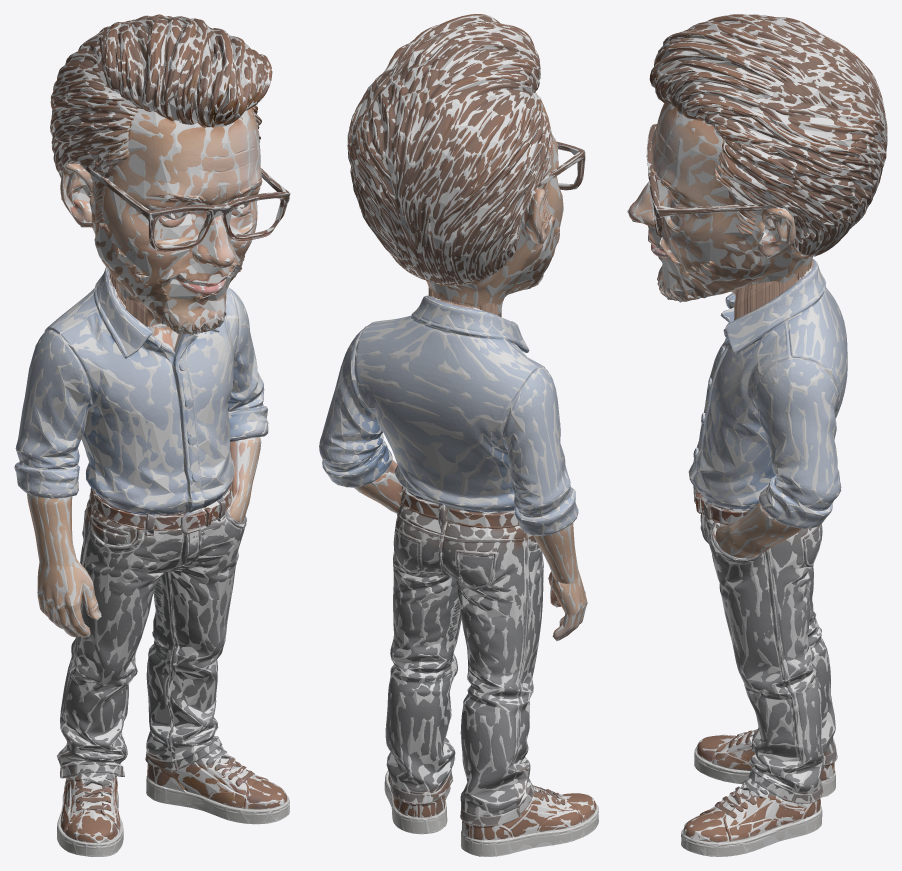
Rendered from figure.glb.
The picture shows the model from 3 angles, left to right: view 1: azimuth 30°, elevation 25°; view 2: azimuth 150°, elevation 25°; view 3: azimuth 270°, elevation 25°; orthographic projection.
Parts seen in each view (by area): view 1: body, wire_body, head, wire_head; view 2: body, wire_body, head, wire_head; view 3: body, head, wire_head, wire_body, neck.
Boxes of the visible parts, box(x1,y1,x2,y2) form: body: box(14, 267, 289, 856); wire_body: box(14, 268, 288, 856); head: box(50, 14, 289, 335); wire_head: box(50, 14, 290, 335); body: box(319, 295, 598, 856); wire_body: box(319, 296, 598, 856); head: box(348, 14, 585, 315); wire_head: box(347, 15, 585, 316); body: box(681, 259, 847, 856); head: box(628, 14, 887, 301); wire_head: box(627, 14, 887, 302); wire_body: box(681, 259, 847, 856); neck: box(734, 261, 812, 320).
Size of the model in its own units: 24.38 by 75.03 by 22.44.
